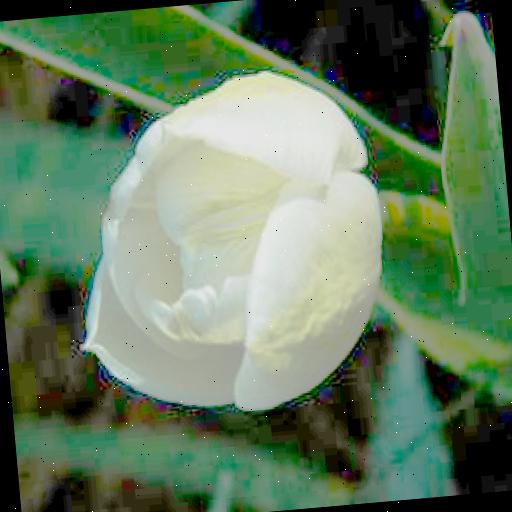tulip: (58, 62, 395, 423)
